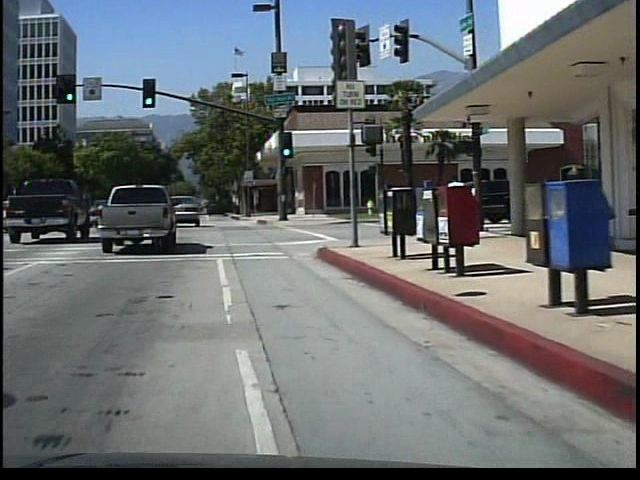person: (449, 170, 475, 240)
